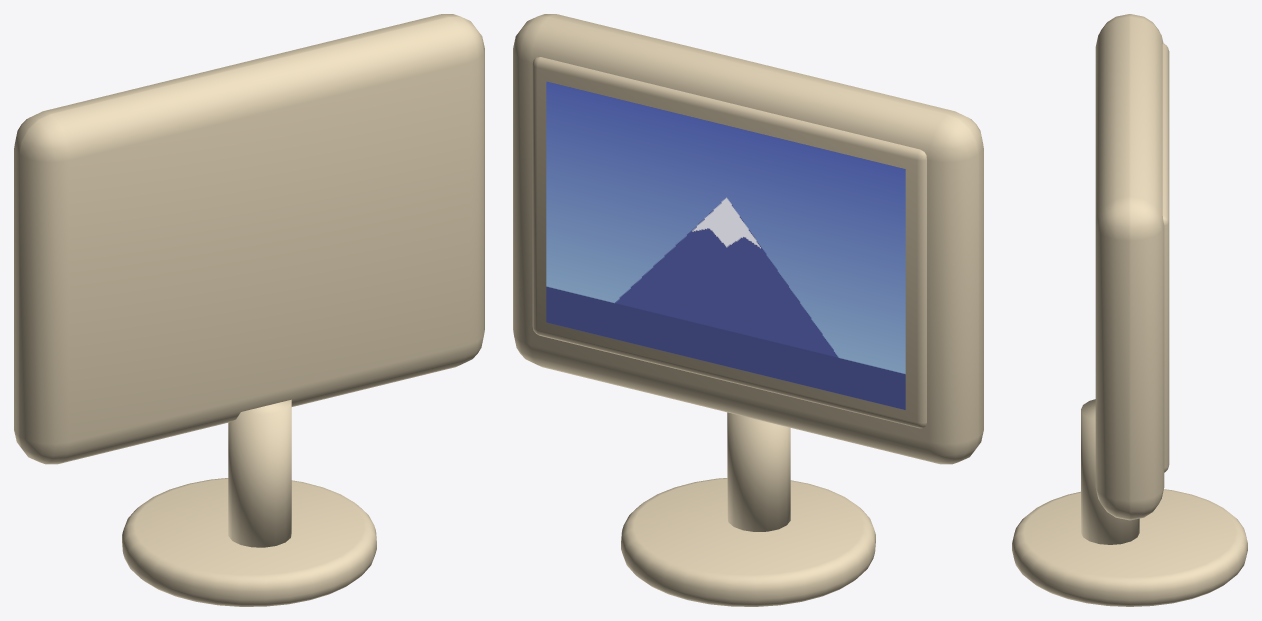
File: monitor2.glb
3 views of the same model, side by side, from view 1: azimuth 30°, elevation 25°; view 2: azimuth 150°, elevation 25°; view 3: azimuth 270°, elevation 25° (orthographic). The views are drawn at different scales.
Visible parts, largest first — view 1: monitor2__Cream; view 2: monitor2__Cream, monitor2__ScreenTex2, monitor2__Bezel; view 3: monitor2__Cream, monitor2__Bezel.
Part boxes in pixels (x1,y1,x2,y2): monitor2__Cream: [14, 14, 484, 606]; monitor2__Cream: [513, 14, 983, 606]; monitor2__ScreenTex2: [546, 81, 905, 409]; monitor2__Bezel: [532, 57, 926, 428]; monitor2__Cream: [1012, 14, 1247, 606]; monitor2__Bezel: [1162, 43, 1169, 472].
Size of the model in its own units: 0.5 by 0.51 by 0.24.
3 materials, 1 textured.
